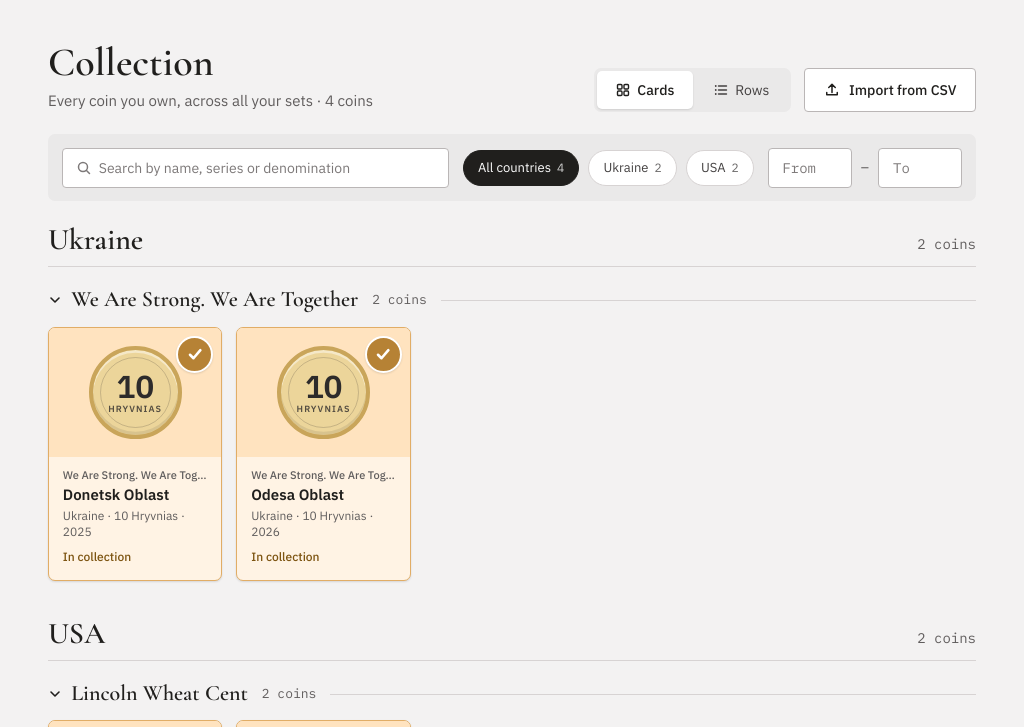
Test: CollectionPage › criteria 2 and 10: live search and the shown count › narrows the cards on every keystroke, with no submit
The width and height of the screenshot is (1024, 727).
In the search field with test id "collection-search": {"x": 256, "y": 168} [62,148,449,188], type "don"
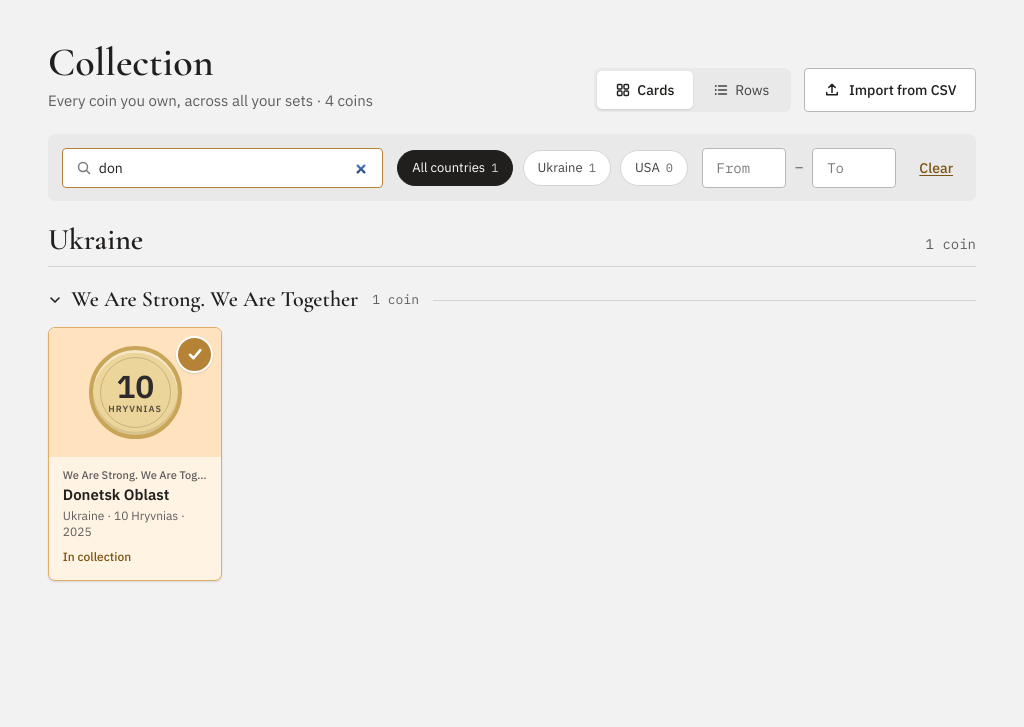
In the search field with test id "collection-search": {"x": 223, "y": 168} [62,148,383,188], type "xyz"
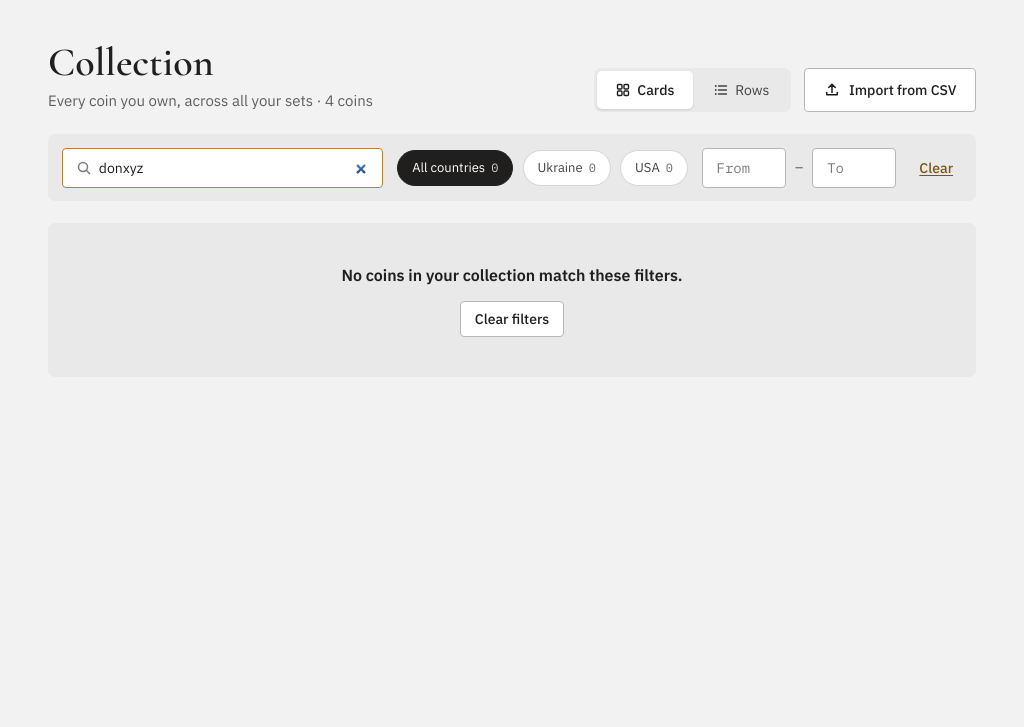
Now the element with test id "coin-card" is gone
